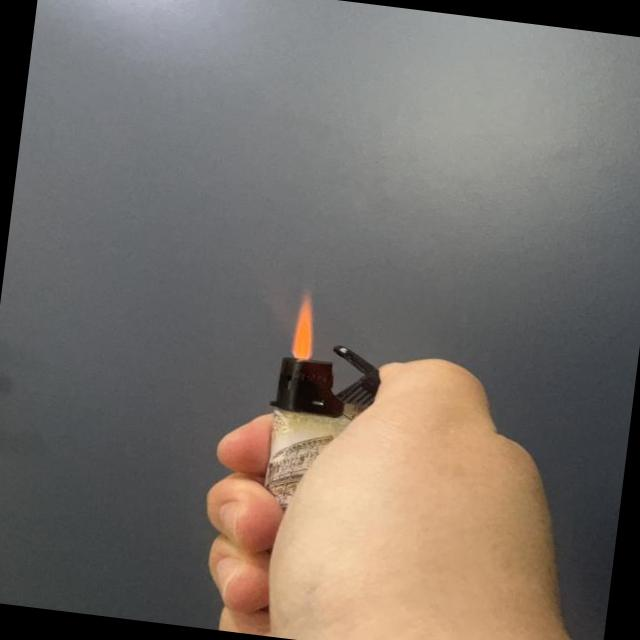Fire: (286, 284, 324, 362)
